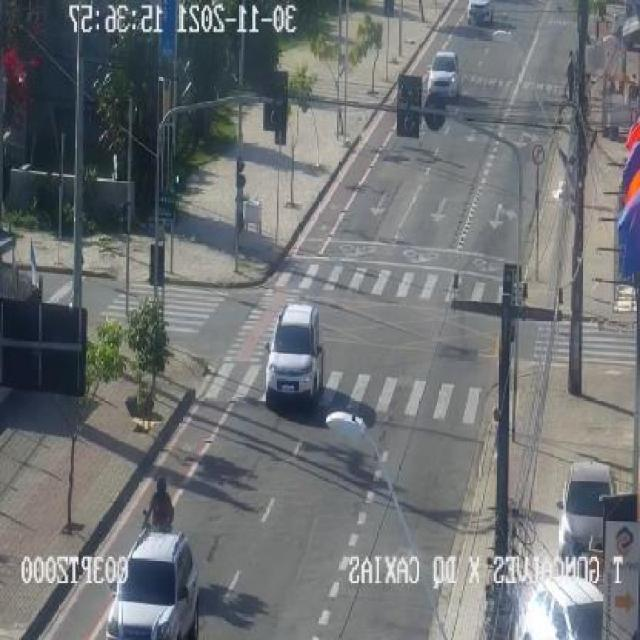car: (109, 530, 200, 639), (262, 302, 324, 406), (555, 462, 617, 560), (516, 572, 602, 640), (426, 49, 460, 102), (466, 0, 492, 28)
motorbike: (140, 476, 174, 542), (236, 184, 249, 250), (564, 50, 576, 101)
